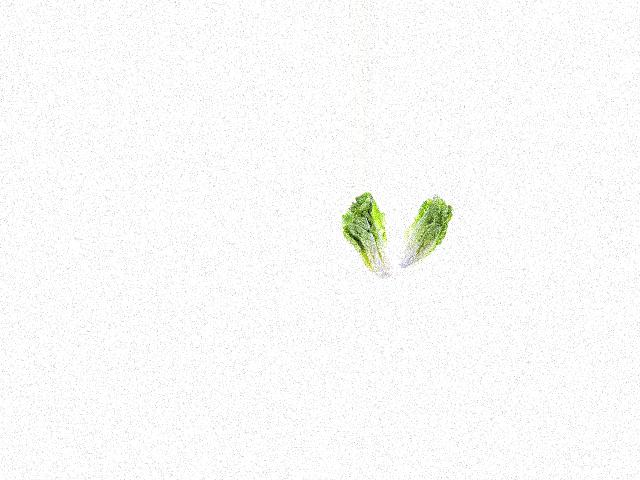lettuce: (397, 195, 454, 277)
